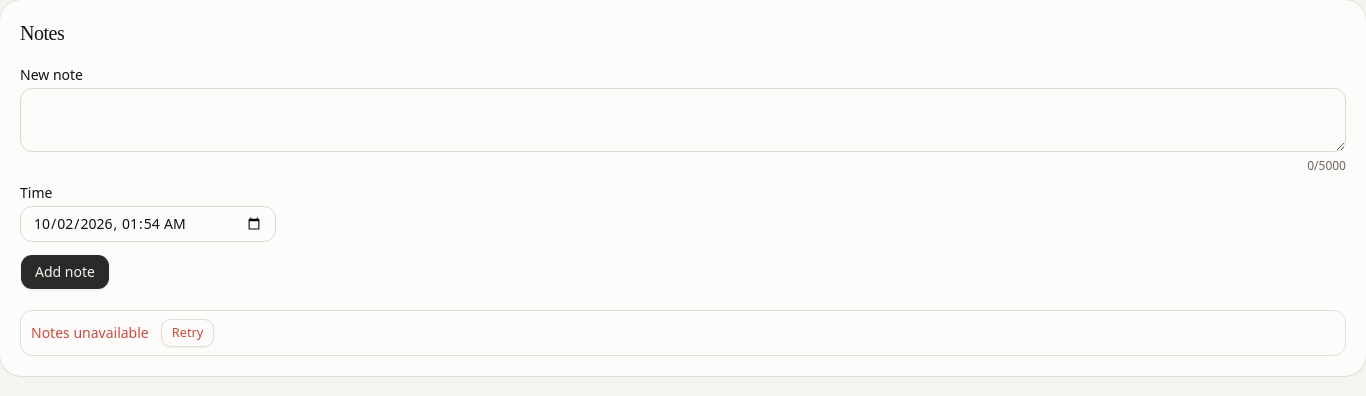
Test: PatientNotes › shows a load error with Retry
The image size is (1366, 396).
Expected: the message shows "Notes unavailable", [31, 322, 149, 342]
Step 1. Click the button "Retry" → point(188, 332), box [161, 318, 214, 346]
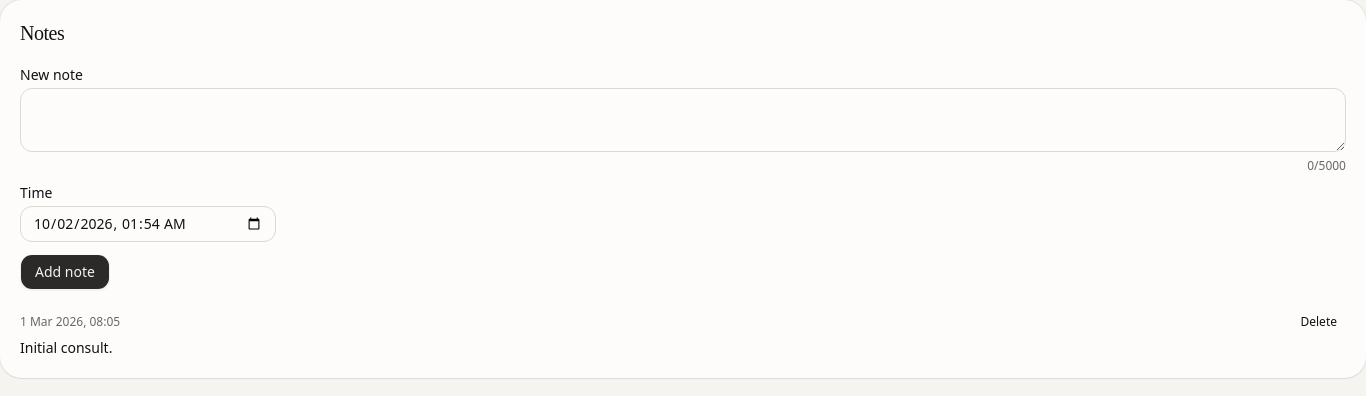
Now the text "Initial consult." is shown, box [20, 338, 112, 356]
